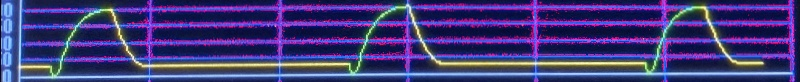leakage: (9, 0, 767, 82)
